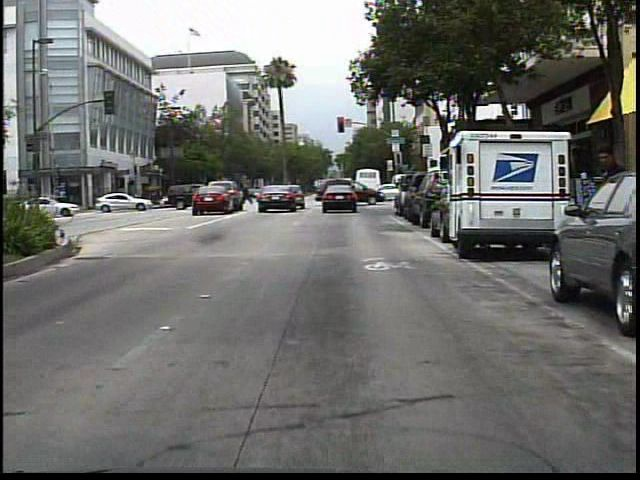person: (587, 142, 630, 278), (243, 181, 258, 207)
